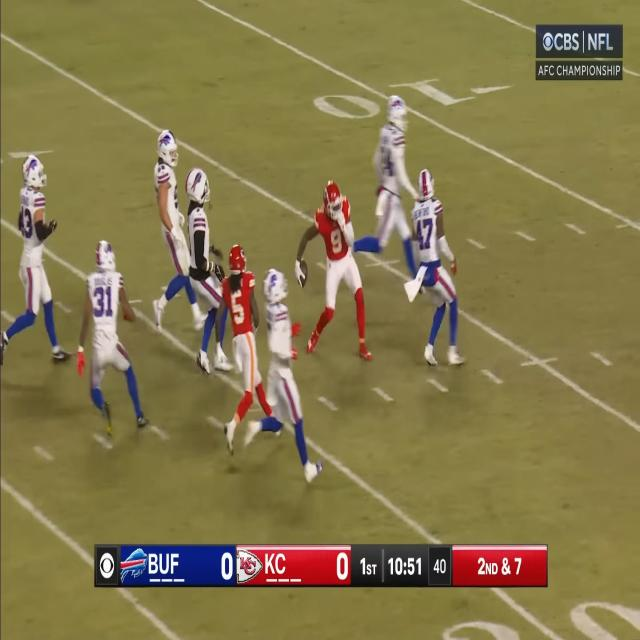Ball: (297, 258, 308, 288)
